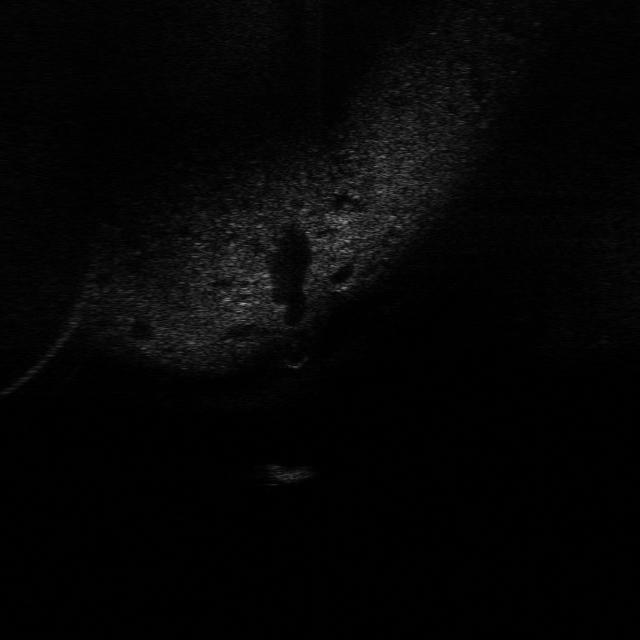ball: (277, 340, 312, 369)
cube: (252, 461, 318, 486)
